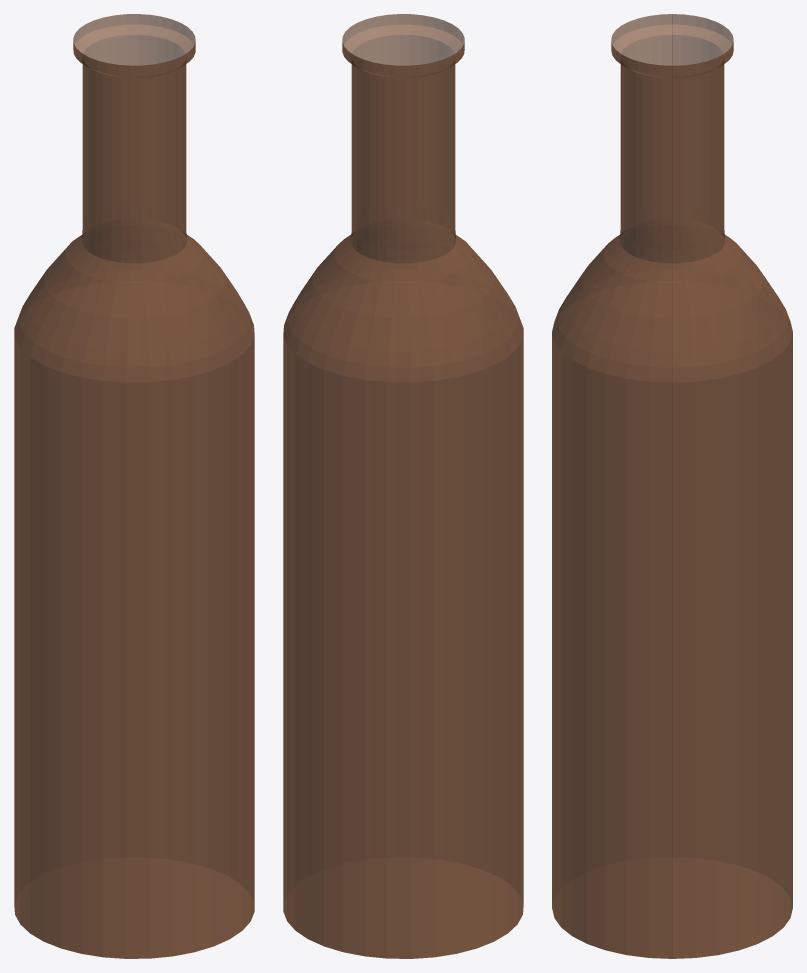
The model's file is bottle_whisky.glb.
The picture shows the model from 3 angles, left to right: view 1: azimuth 30°, elevation 25°; view 2: azimuth 150°, elevation 25°; view 3: azimuth 270°, elevation 25°; orthographic projection.
Visible parts, largest first — view 1: Cylinder; view 2: Cylinder; view 3: Cylinder.
Part boxes in pixels (x1,y1,x2,y2): Cylinder: [14, 14, 254, 958]; Cylinder: [283, 14, 523, 958]; Cylinder: [552, 14, 792, 958].
Bounding box in the file's own units: 0.1 × 0.3977 × 0.1.
